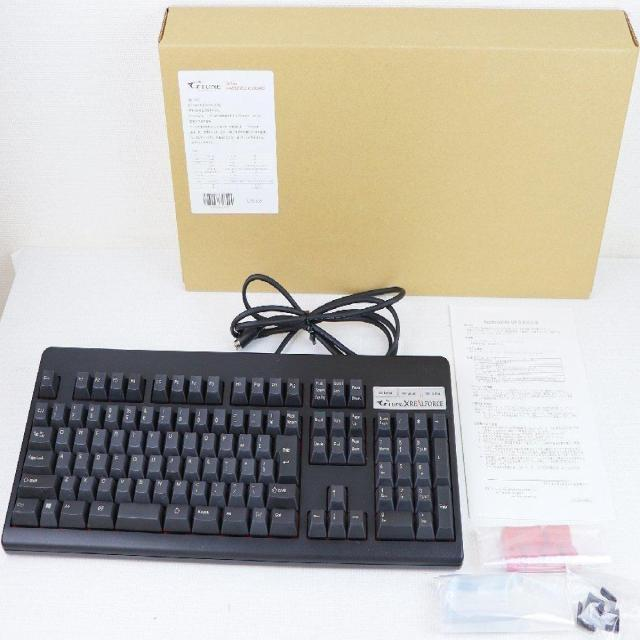keyboard: (0, 351, 461, 566)
